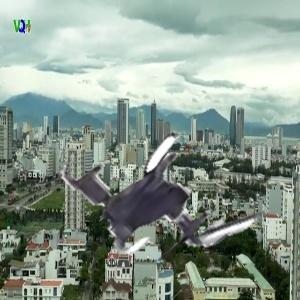drone: (58, 109, 241, 292)
